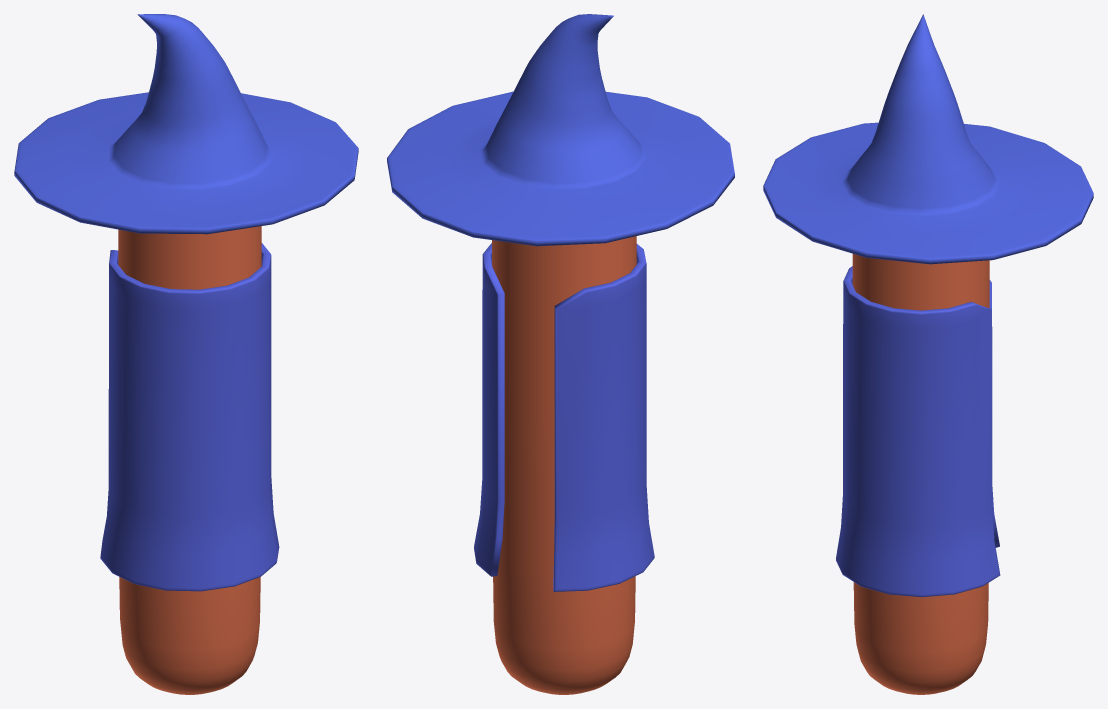
The model's file is HotdogWizard.fbx.
3 views of the same model, side by side, from view 1: azimuth 30°, elevation 25°; view 2: azimuth 150°, elevation 25°; view 3: azimuth 270°, elevation 25° (orthographic). The views are drawn at different scales.
Parts seen in each view (by area): view 1: Hotdog; view 2: Hotdog; view 3: Hotdog.
Part boxes in pixels (left/top/right/bottom): Hotdog: left=14, top=14, right=358, bottom=694; Hotdog: left=387, top=14, right=734, bottom=694; Hotdog: left=763, top=14, right=1093, bottom=694.
Size of the model in its own units: 93.76 by 202 by 93.61.
